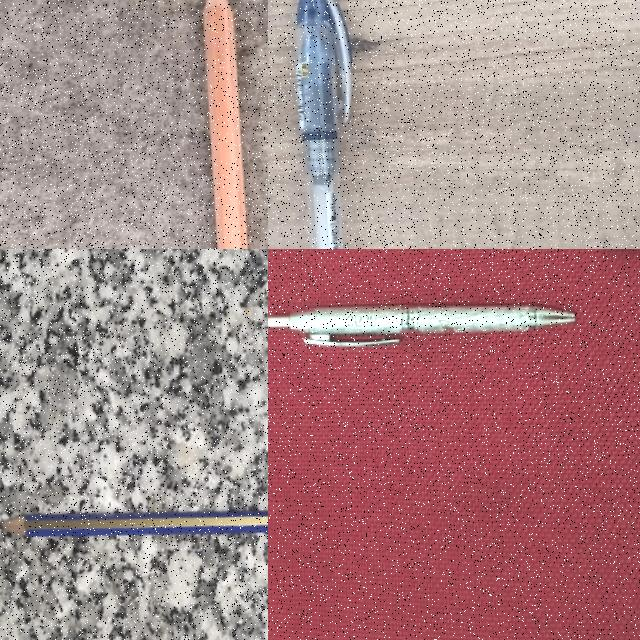pen: (295, 0, 351, 248)
pencil: (203, 0, 246, 248), (0, 511, 267, 537)
signature pen: (268, 305, 575, 346)
